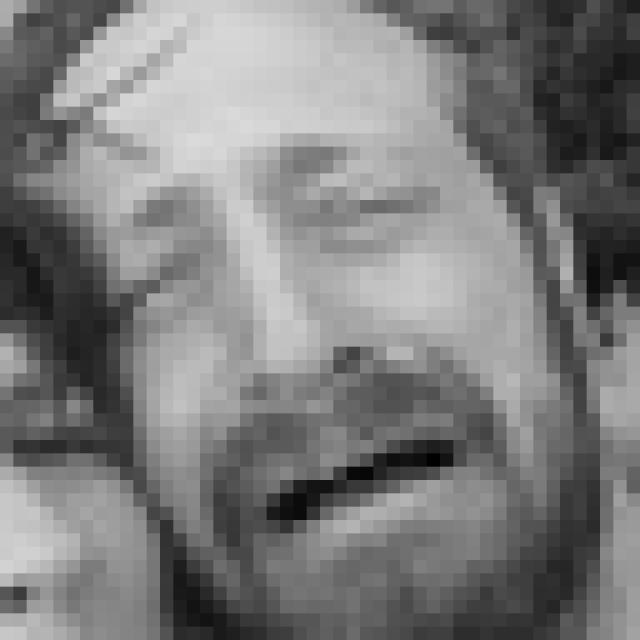sad: (120, 132, 519, 574)
